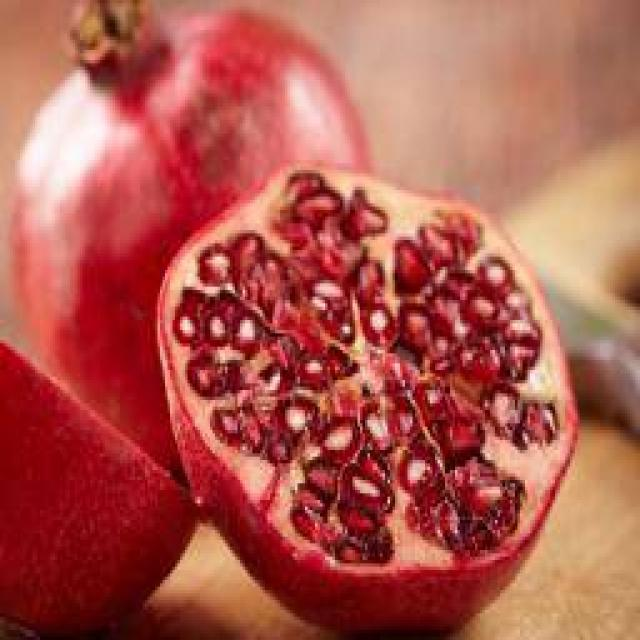Pomegranate: (14, 12, 368, 478), (161, 170, 560, 565), (0, 342, 196, 632)
